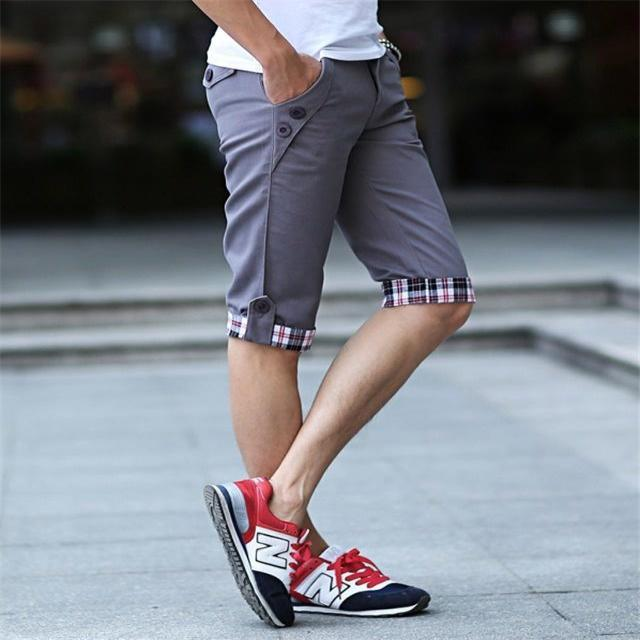shorts: (171, 16, 564, 356)
